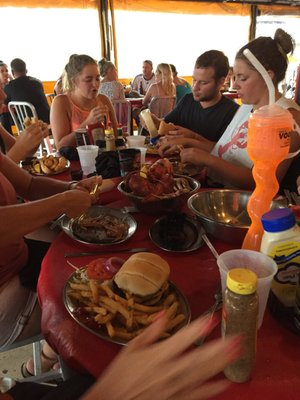pizza: (117, 147, 142, 177), (76, 145, 99, 177)
sushi: (118, 159, 201, 214), (188, 189, 252, 245), (150, 213, 202, 253)
